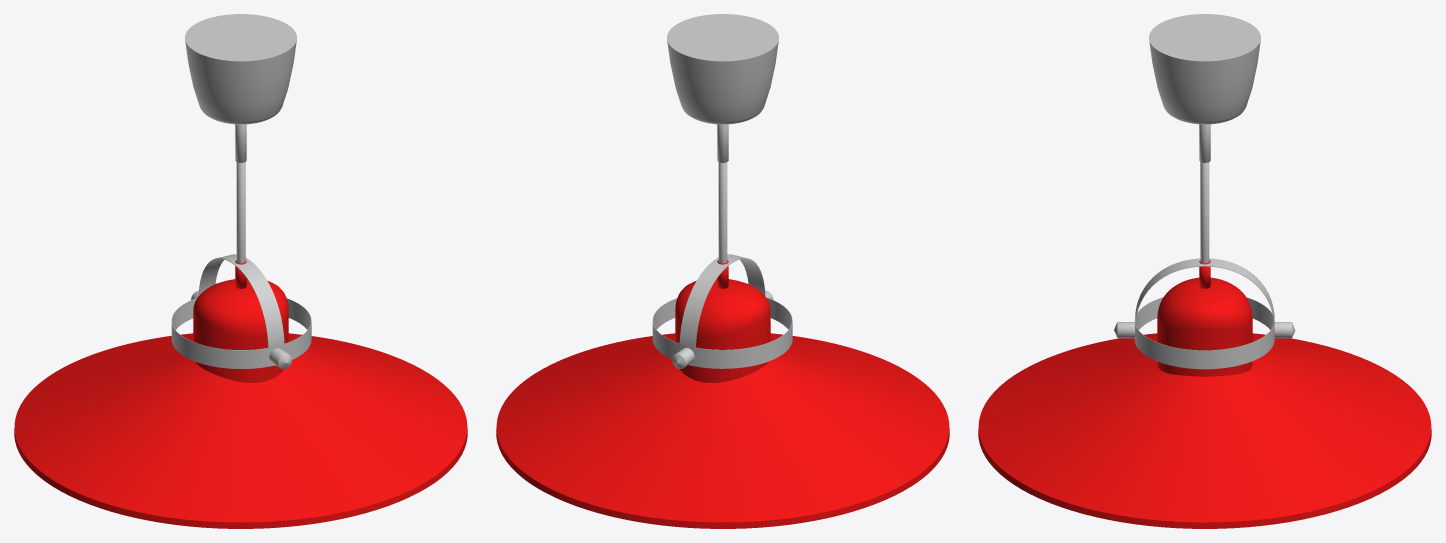
The model's file is red_cuisine.glb.
3 renders of one model, left to right at view 1: azimuth 30°, elevation 25°; view 2: azimuth 150°, elevation 25°; view 3: azimuth 270°, elevation 25°, orthographic.
Visible parts, largest first — view 1: Cercle_2, Cylindre.004_8, Plan.001_4, Cylindre.003_7; view 2: Cercle_2, Cylindre.004_8, Plan.001_4, Cylindre.003_7; view 3: Cercle_2, Cylindre.004_8, Plan.001_4, Cylindre.003_7.
Boxes of the visible parts, x1,y1,x2,y2 form: Cercle_2: (14,278,467,528); Cylindre.004_8: (185,14,296,124); Plan.001_4: (171,254,311,368); Cylindre.003_7: (236,162,245,263); Cercle_2: (496,278,949,528); Cylindre.004_8: (667,14,778,124); Plan.001_4: (652,254,792,368); Cylindre.003_7: (718,162,727,263); Cercle_2: (978,277,1431,528); Cylindre.004_8: (1149,14,1260,124); Plan.001_4: (1134,258,1274,369); Cylindre.003_7: (1200,162,1209,263).
Bounding box in the file's own units: 0.404 × 0.398 × 0.404.
